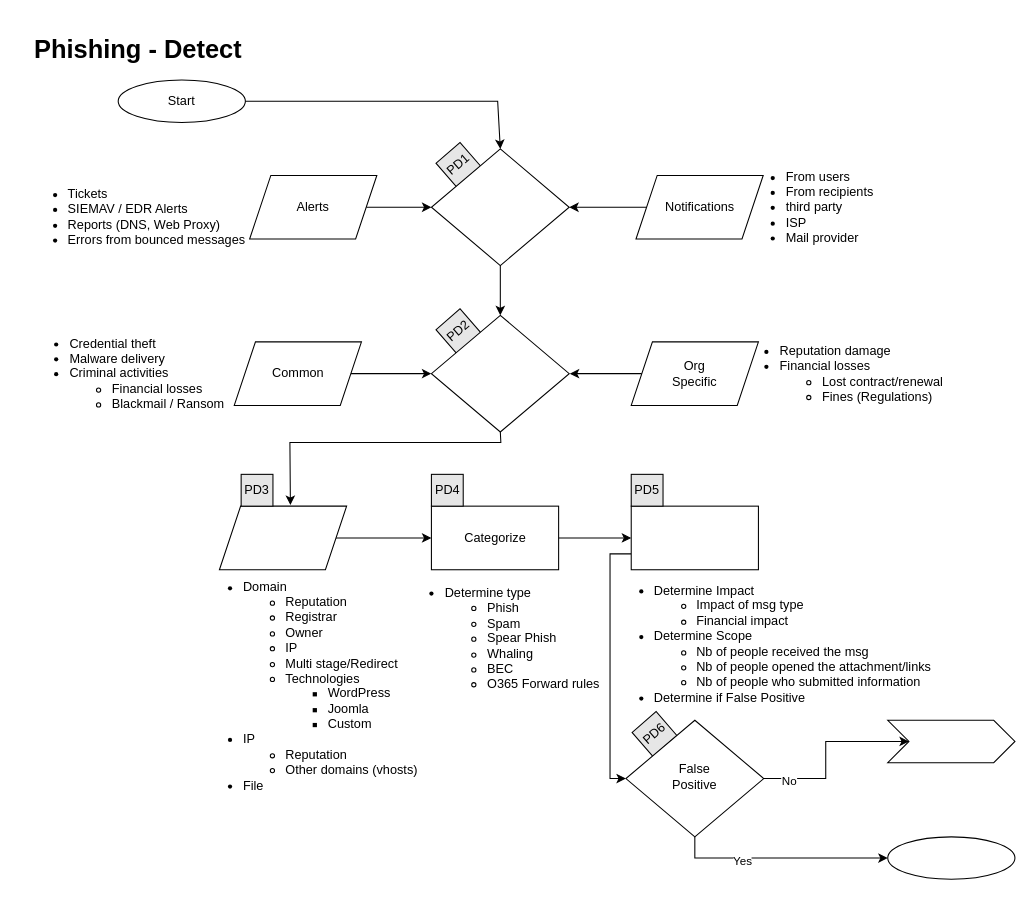
Some shapes in this 1034 by 898 pixel diagram are drawn without their labels. The centre of each missing label's shape, as x and y in pixels:
Data Collection: (282,537)
Identify Risk Factors: (499,373)
Identify Threat Indicators: (499,207)
Next (Analyze): (951,741)
Stop: (951,857)
Triage: (694,537)
